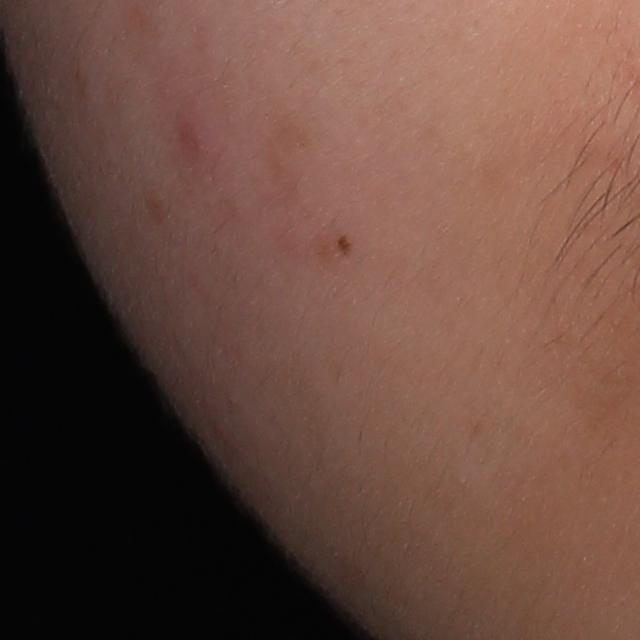nevus: (336, 234, 354, 259)
